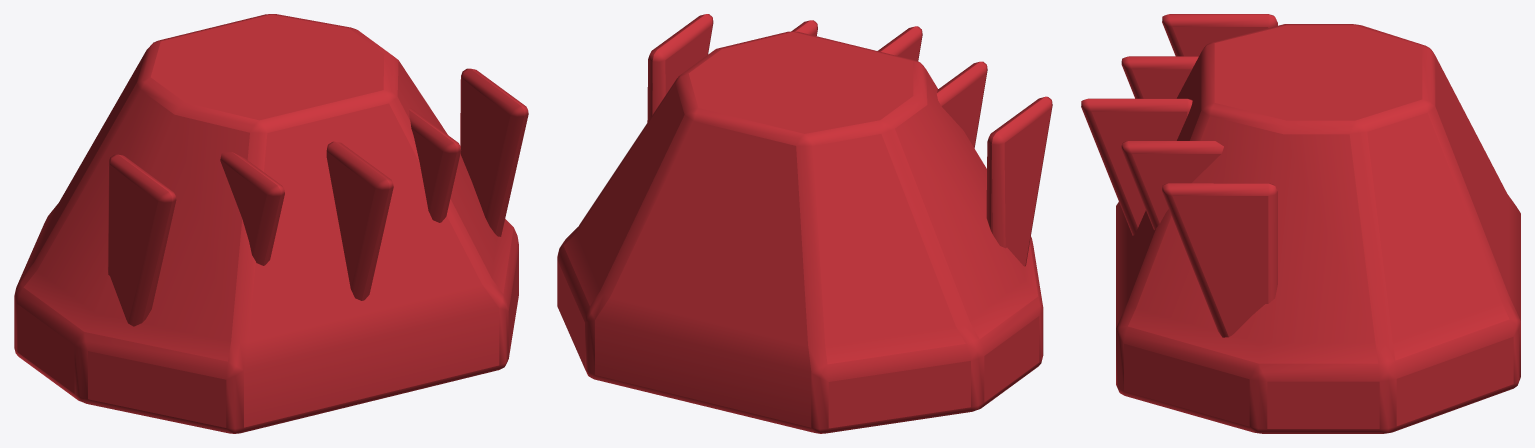
File: AnimalHeadBack_Set01_Ironclad.fbx
3 renders of one model, left to right at view 1: azimuth 30°, elevation 25°; view 2: azimuth 150°, elevation 25°; view 3: azimuth 270°, elevation 25°, orthographic. The views are drawn at different scales.
Visible parts, largest first — view 1: AnimalHeadBack_Set01_Ironclad; view 2: AnimalHeadBack_Set01_Ironclad; view 3: AnimalHeadBack_Set01_Ironclad.
Part boxes in pixels (x1,y1,x2,y2): AnimalHeadBack_Set01_Ironclad: (14, 14, 528, 433); AnimalHeadBack_Set01_Ironclad: (557, 14, 1052, 433); AnimalHeadBack_Set01_Ironclad: (1081, 14, 1520, 433).
Bounding box in the file's own units: 0.42 × 0.24 × 0.3693.
